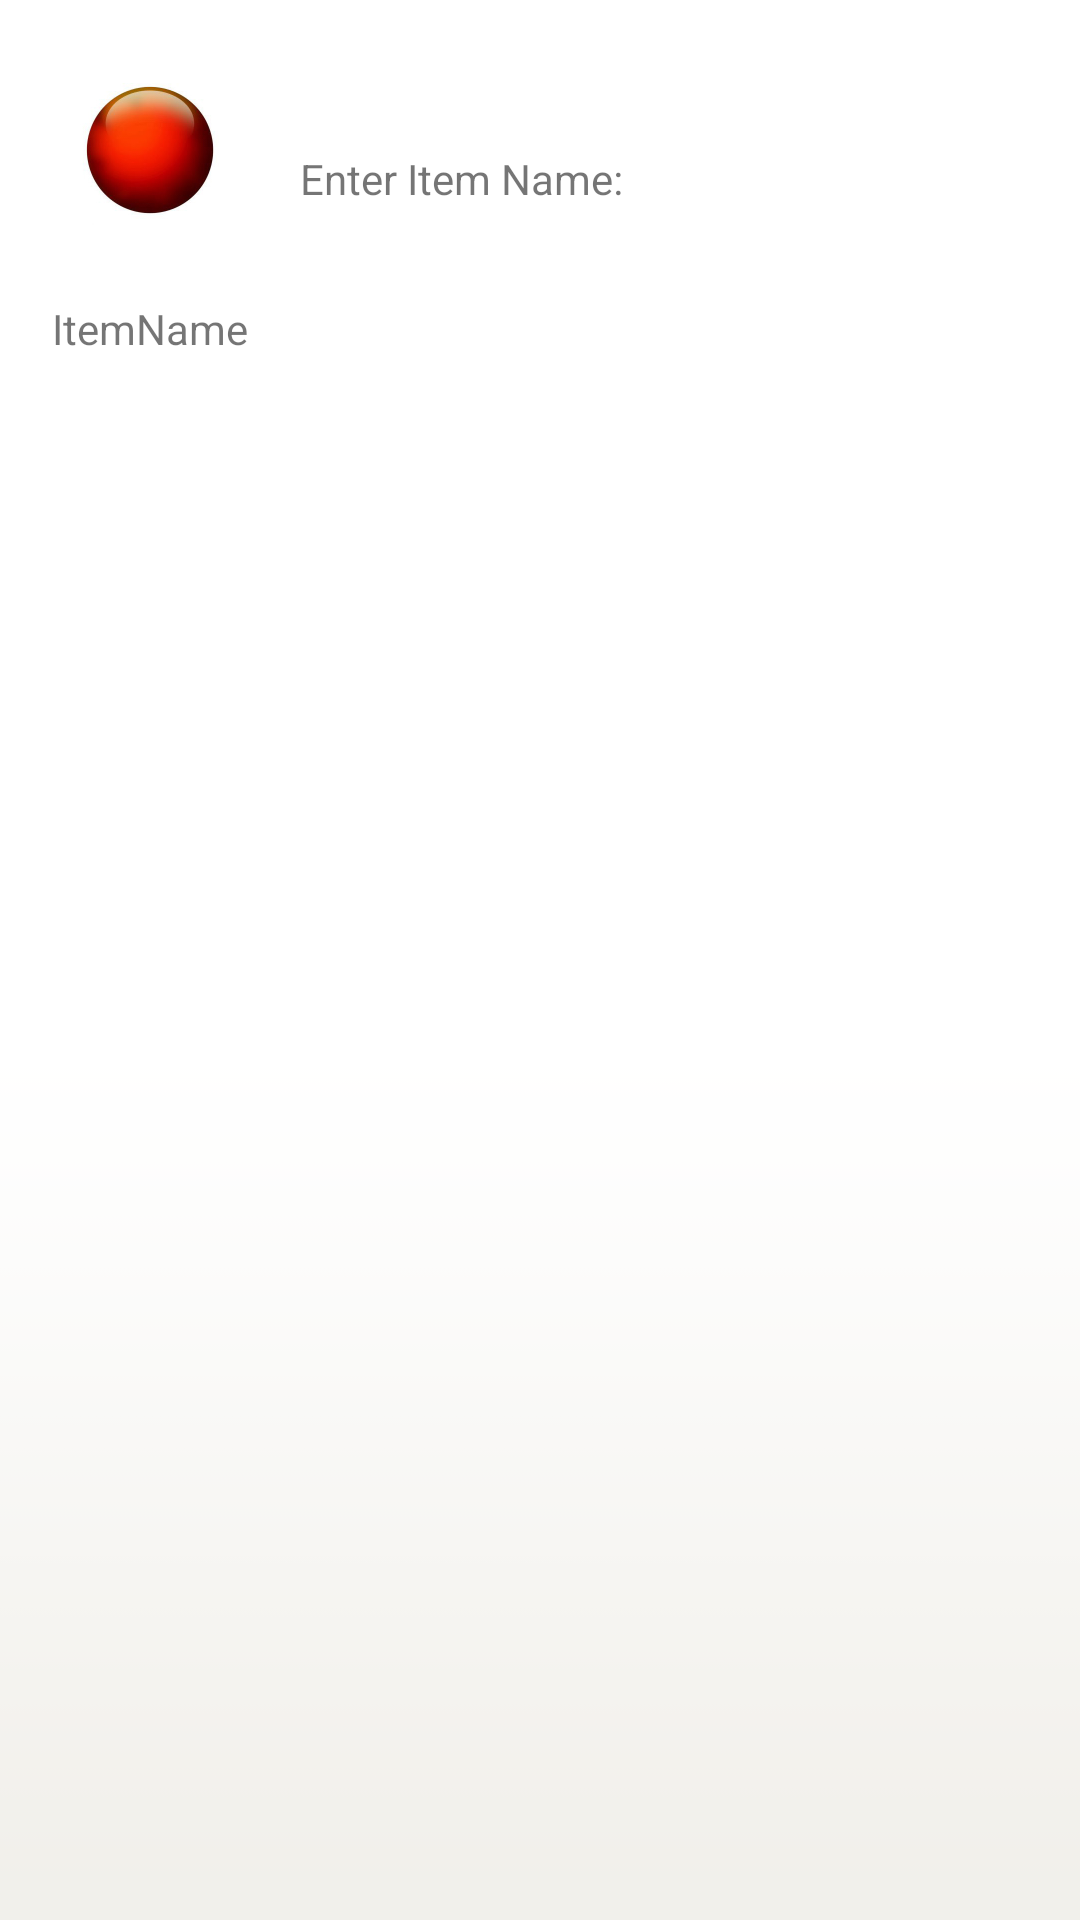

Where to tap for icons on this 1080 x 1920 app screen, as [x,y]:
redball: [150,150]
